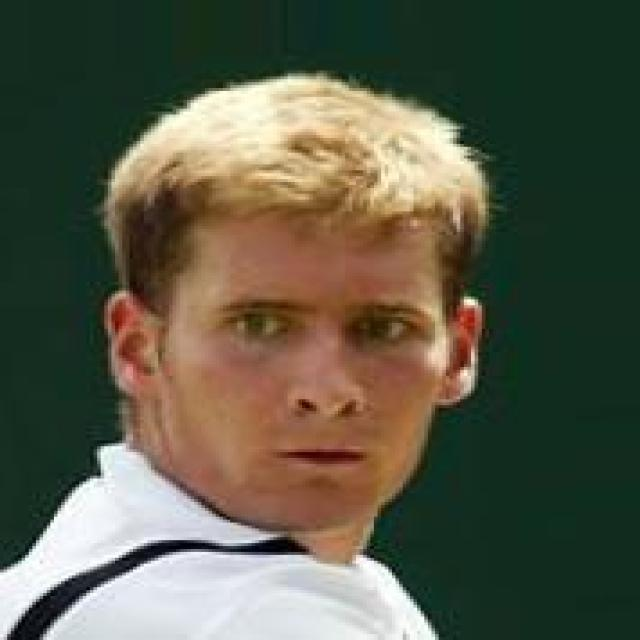bareface: (96, 78, 471, 528)
